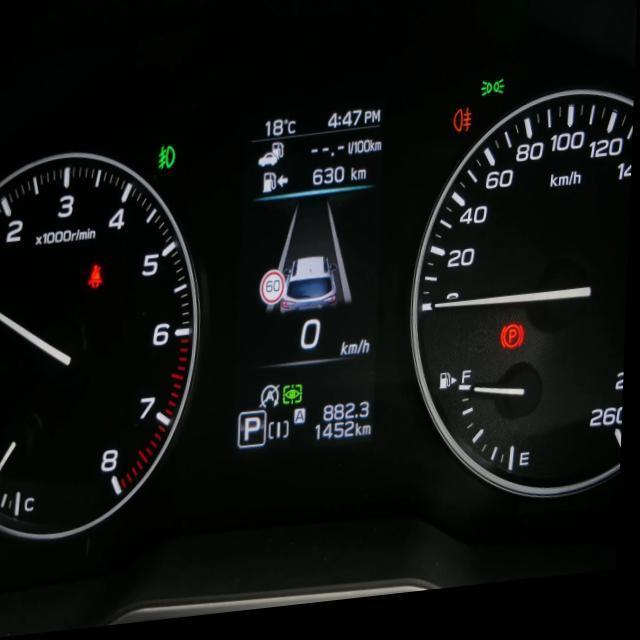Seat Belt: (86, 264, 106, 286)
